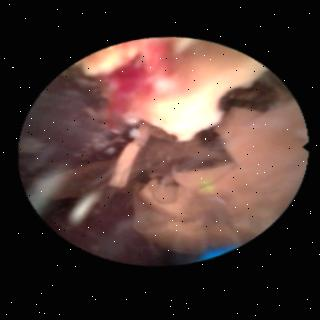stone: (107, 75, 302, 254), (151, 40, 256, 133), (32, 161, 108, 225), (76, 44, 136, 76)
